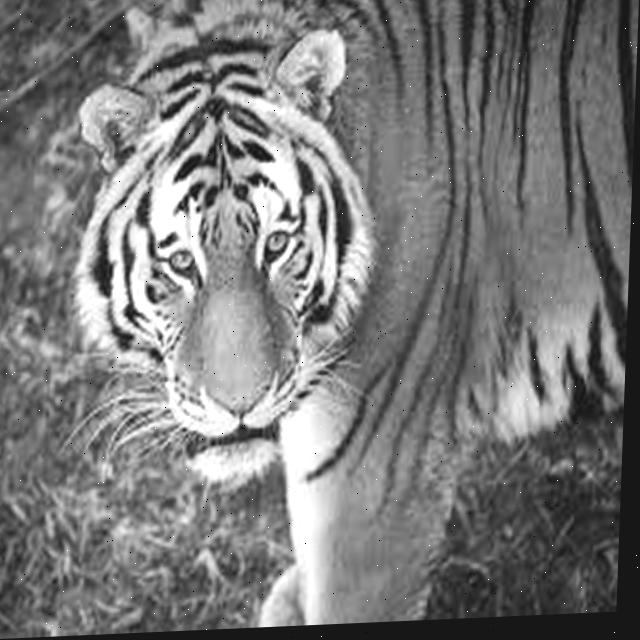Tiger: (51, 0, 639, 636)
